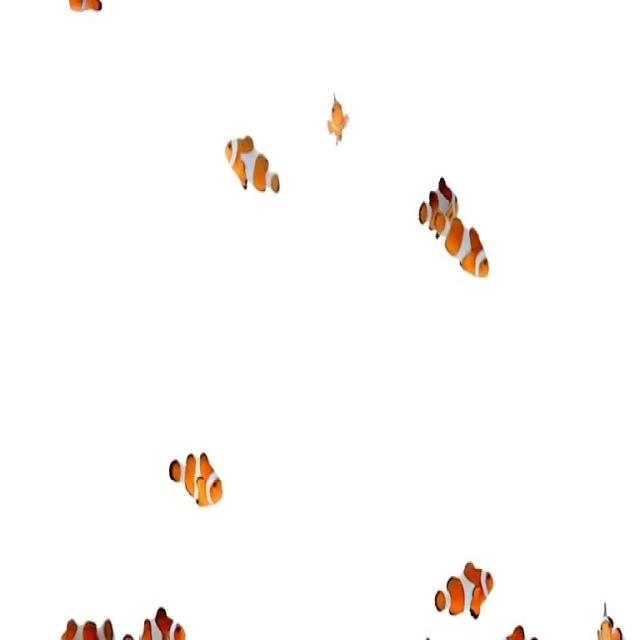fish: (433, 560, 495, 626), (438, 205, 490, 283), (225, 128, 281, 196), (168, 453, 225, 510), (418, 172, 460, 242), (139, 599, 190, 640), (323, 91, 349, 148), (62, 616, 116, 639)
